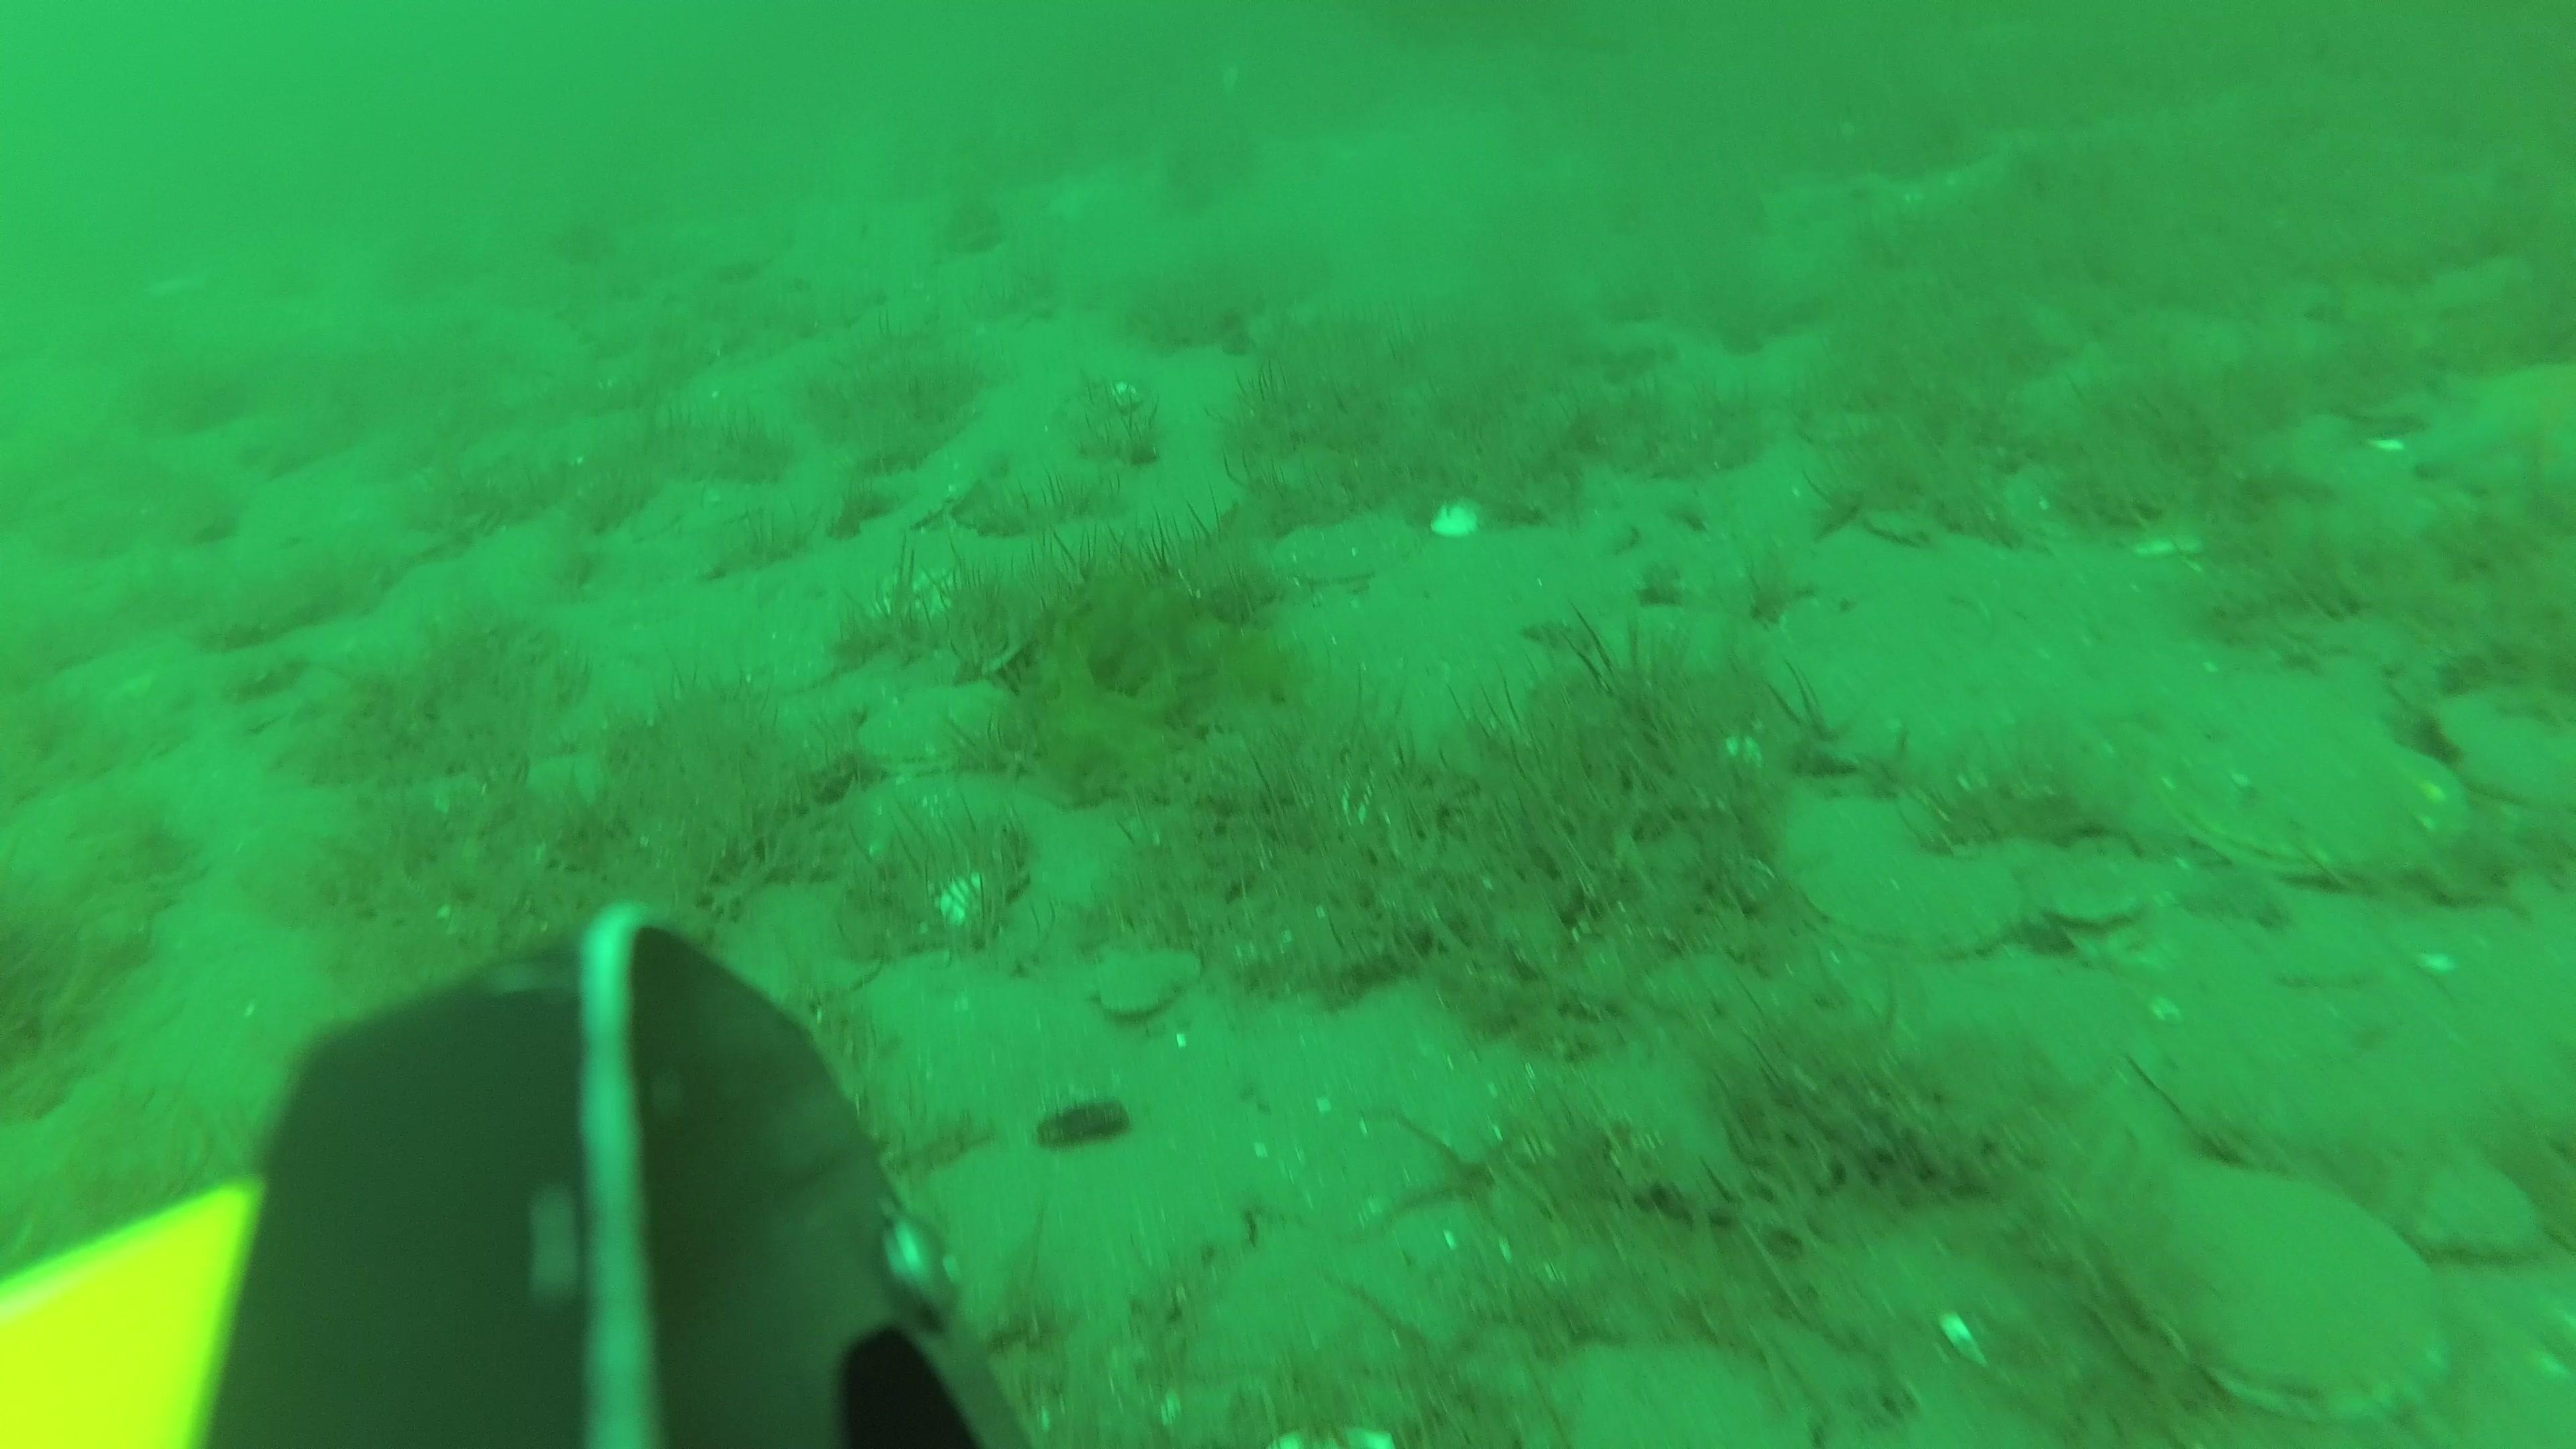scallop: (2111, 1166, 2443, 1421), (2171, 709, 2457, 888), (1783, 800, 2022, 957), (2337, 1123, 2557, 1258), (2436, 679, 2574, 821), (862, 678, 1021, 780), (1276, 508, 1419, 591), (1090, 943, 1201, 1021)
starfish: (2410, 356, 2576, 508)
